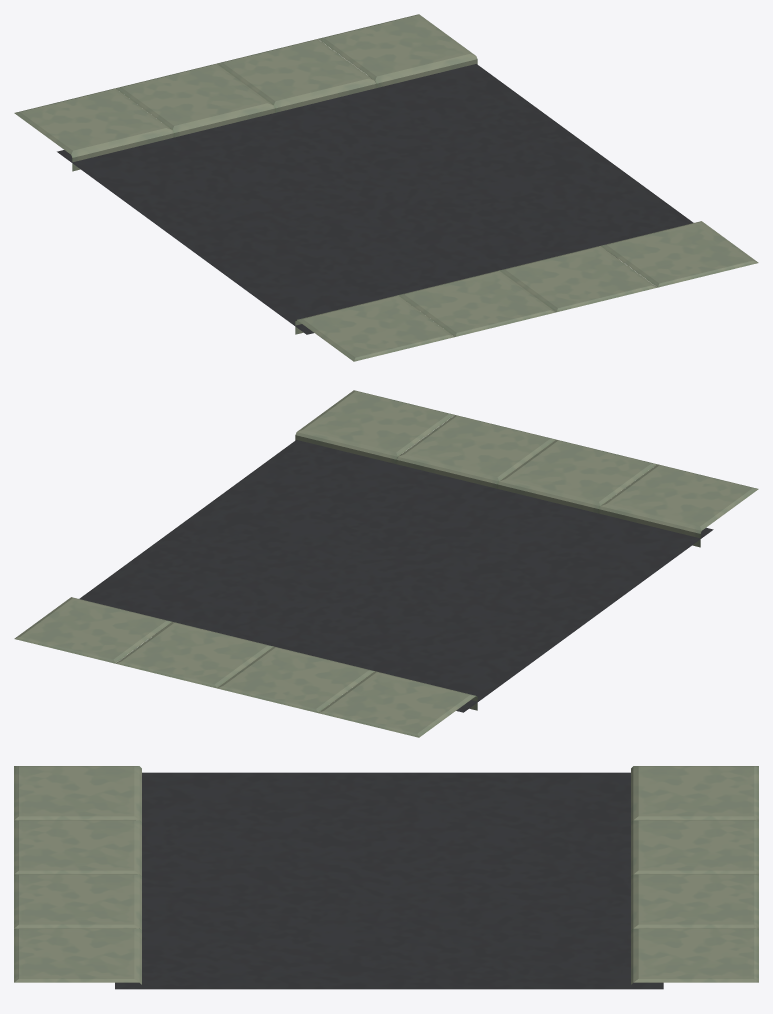
Rendered from RoadComplete.fbx.
The picture shows the model from 3 angles, top to bottom: view 1: azimuth 30°, elevation 25°; view 2: azimuth 150°, elevation 25°; view 3: azimuth 270°, elevation 25°; orthographic projection. The views are drawn at different scales.
Visible parts, largest first — view 1: RoadTile, SidewalkStraight; view 2: RoadTile, SidewalkStraight; view 3: RoadTile, SidewalkStraight.
Boxes of the visible parts, box(x1,y1,x2,y2) form: RoadTile: box(57, 64, 693, 334); SidewalkStraight: box(14, 14, 758, 361); RoadTile: box(79, 440, 713, 712); SidewalkStraight: box(14, 390, 758, 737); RoadTile: box(115, 772, 663, 989); SidewalkStraight: box(14, 766, 758, 984).
Size of the model in its own units: 802 by 32.62 by 1163.
